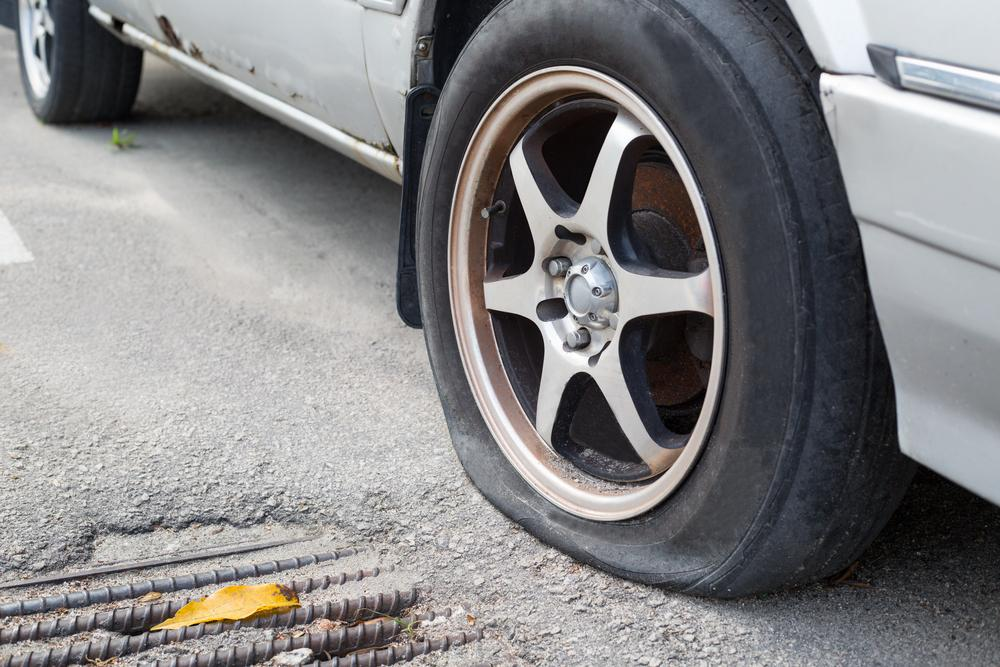tire flat: (416, 0, 910, 597)
